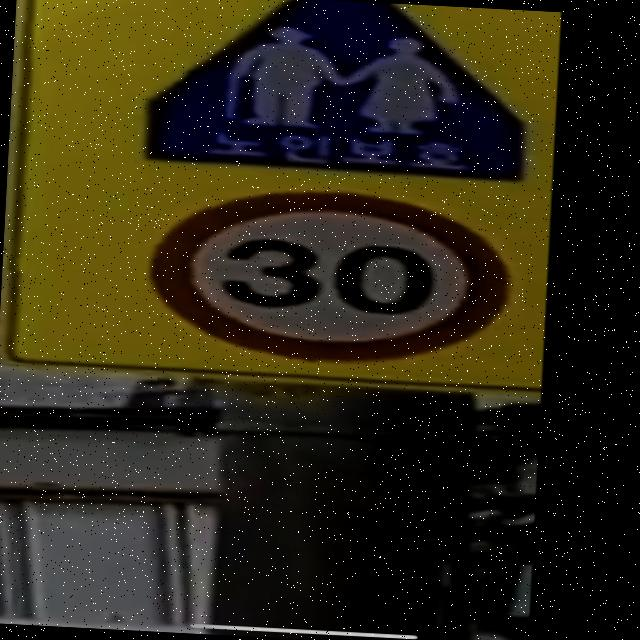Ograniczenie predkosci do 30: (146, 184, 516, 373)
